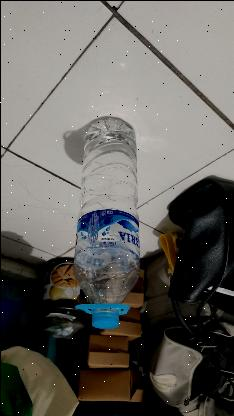Plastic Bottle: (72, 115, 138, 330)
